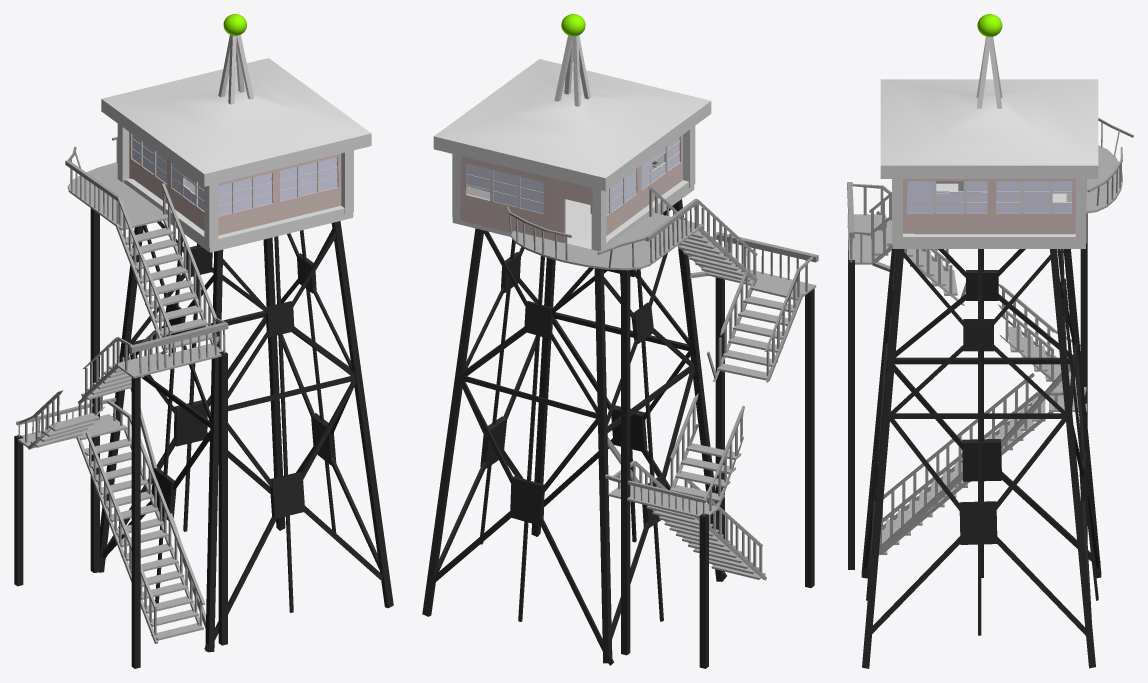
Rendered from RadioTower.fbx.
3 views of the same model, side by side, from view 1: azimuth 30°, elevation 25°; view 2: azimuth 150°, elevation 25°; view 3: azimuth 270°, elevation 25° (orthographic). The views are drawn at different scales.
Parts seen in each view (by area): view 1: polySurface296; view 2: polySurface296; view 3: polySurface296.
Boxes of the visible parts, bbox=[...] form: polySurface296: bbox=[14, 14, 393, 668]; polySurface296: bbox=[422, 14, 818, 668]; polySurface296: bbox=[847, 14, 1133, 668].
Size of the model in its own units: 8.79 by 17.66 by 7.58.
